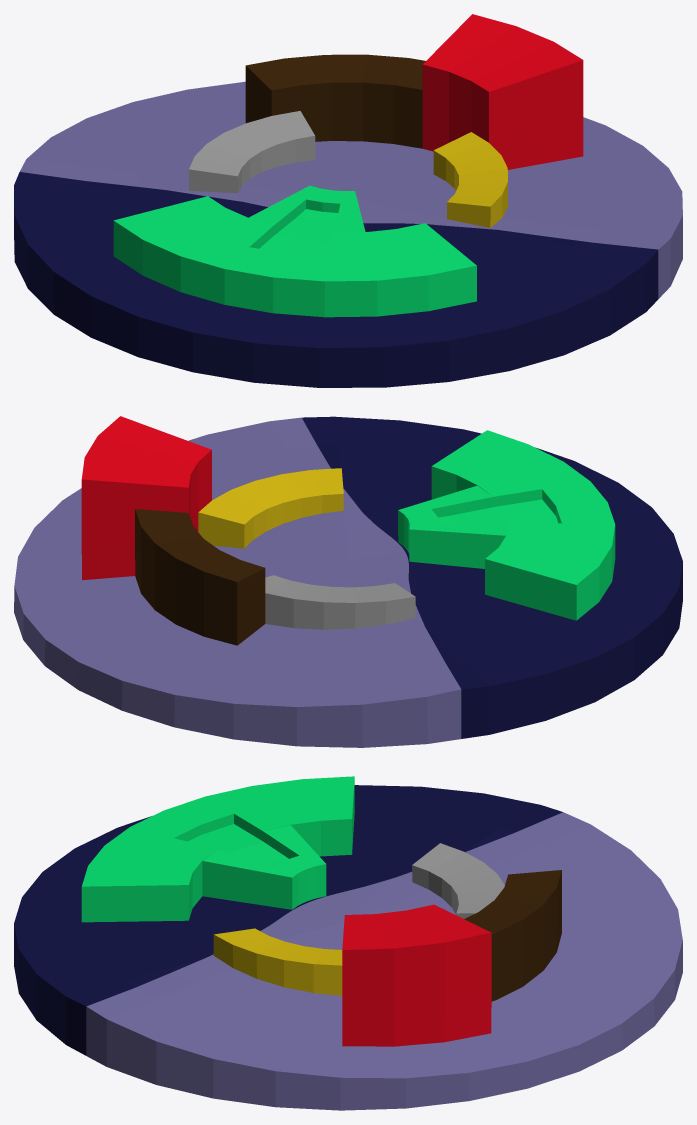
Rendered from socle_scene 1.fbx.
3 renders of one model, top to bottom at view 1: azimuth 30°, elevation 25°; view 2: azimuth 150°, elevation 25°; view 3: azimuth 270°, elevation 25°, orthographic.
Visible parts, largest first — view 1: Socle.001; view 2: Socle.001; view 3: Socle.001.
Part boxes in pixels (x1,y1,x2,y2): Socle.001: (14, 14, 682, 387); Socle.001: (14, 416, 682, 747); Socle.001: (14, 776, 682, 1110).
Bounding box in the file's own units: 1500 × 326 × 1500.
